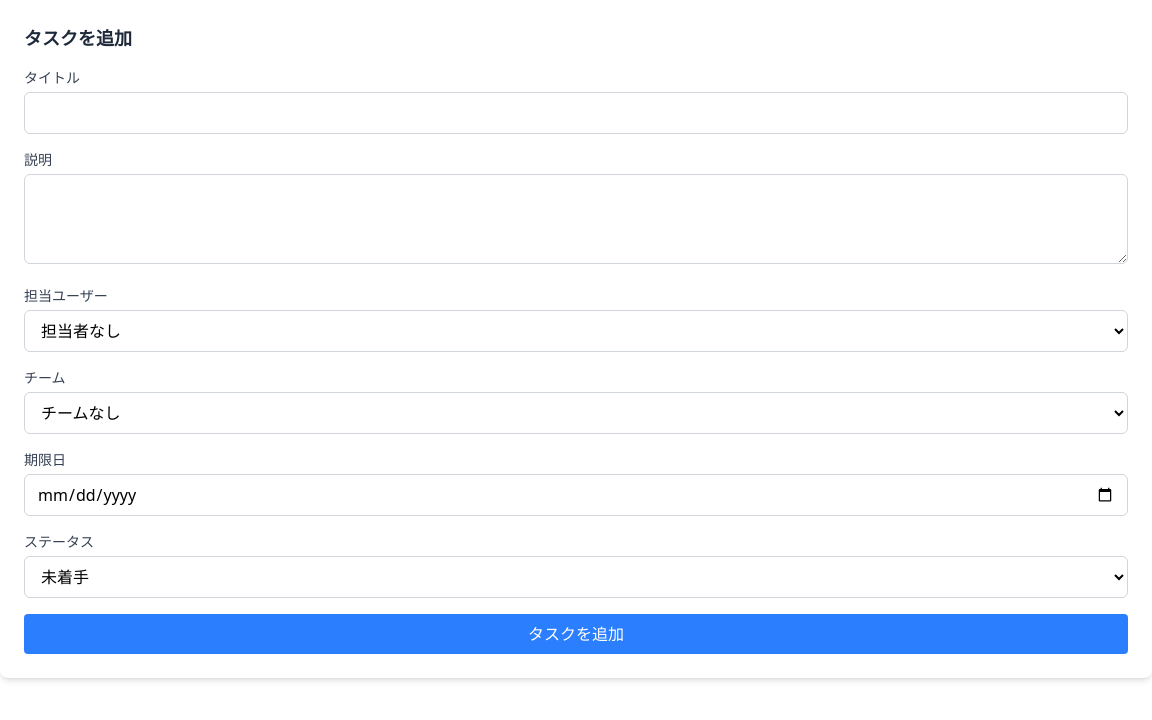
Scenario: TaskForm Component › should show error message when task creation fails
Fill the form with minimal required data
Type "Test Task" into the field labelled "タイトル" at {"x": 576, "y": 113}, box [24, 92, 1128, 134]
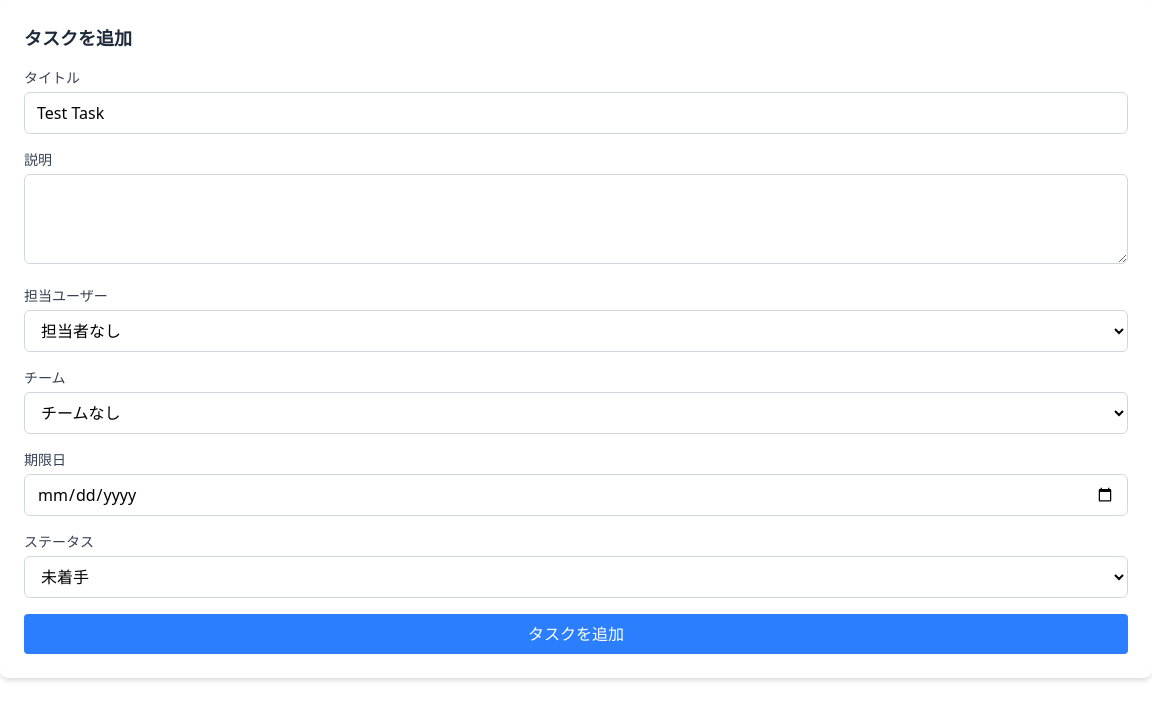
Submit the form
Click the button "タスクを追加" at {"x": 576, "y": 634}, box [24, 614, 1128, 654]
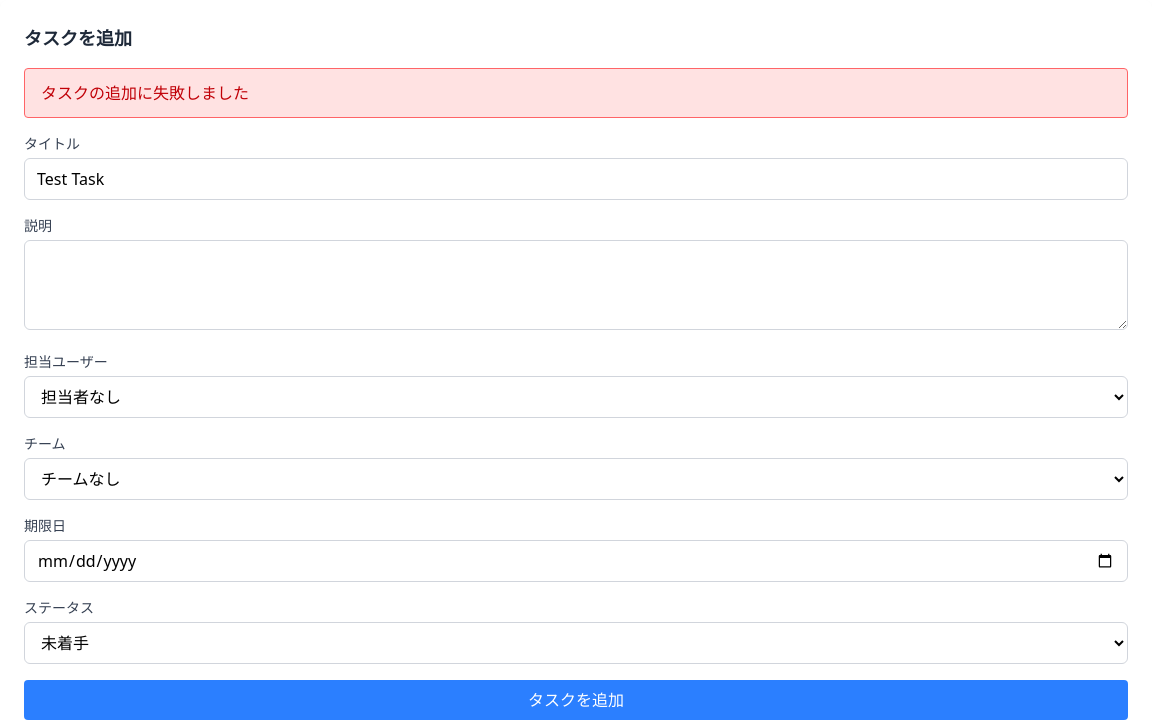
Now the text "タスクの追加に失敗しました" is shown, box [24, 68, 1128, 118]
